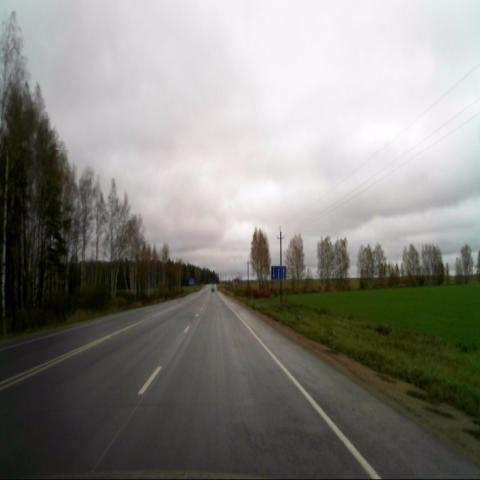5_15_7: (270, 265, 287, 281)
